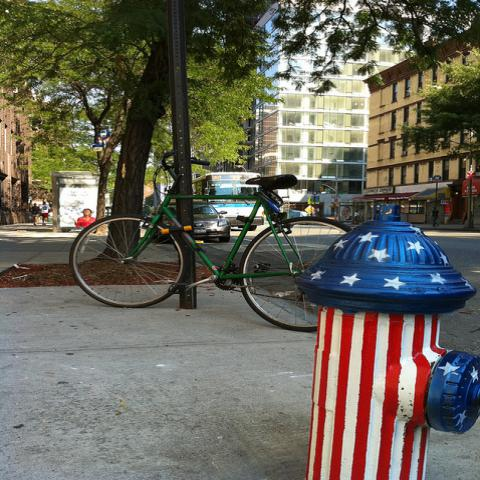bus: (192, 171, 259, 226)
car: (194, 201, 230, 244), (326, 216, 340, 222)
